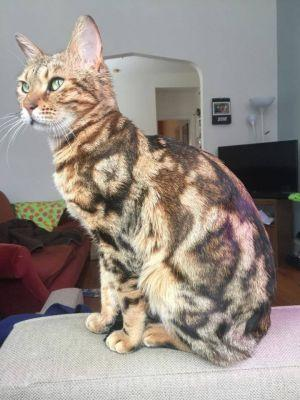bengal: (8, 17, 124, 140)
